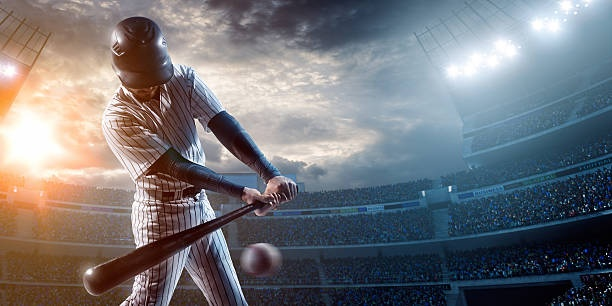bita: (84, 183, 290, 298)
